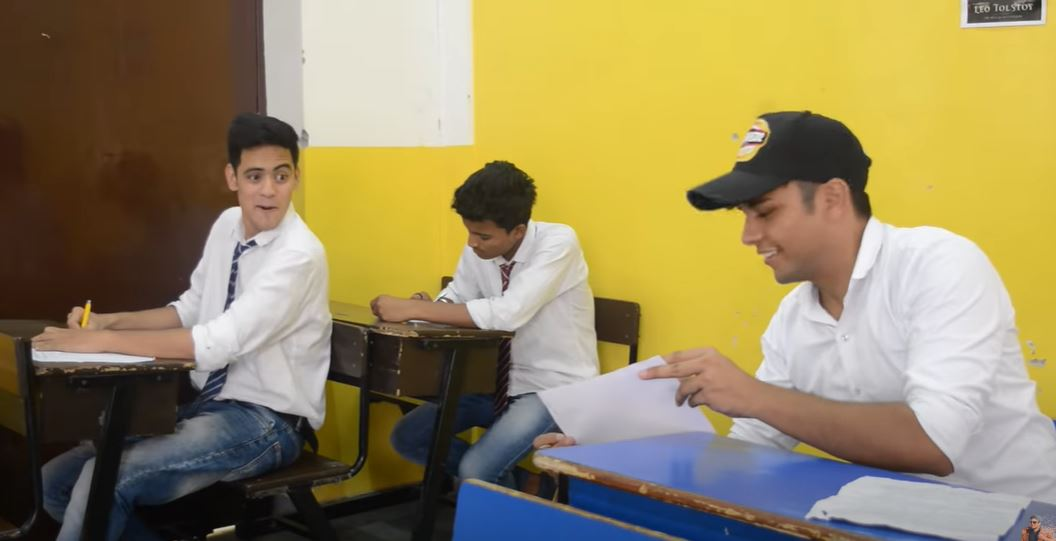student: (586, 99, 1006, 491), (406, 152, 618, 367)
studentcopying: (151, 123, 344, 456)
